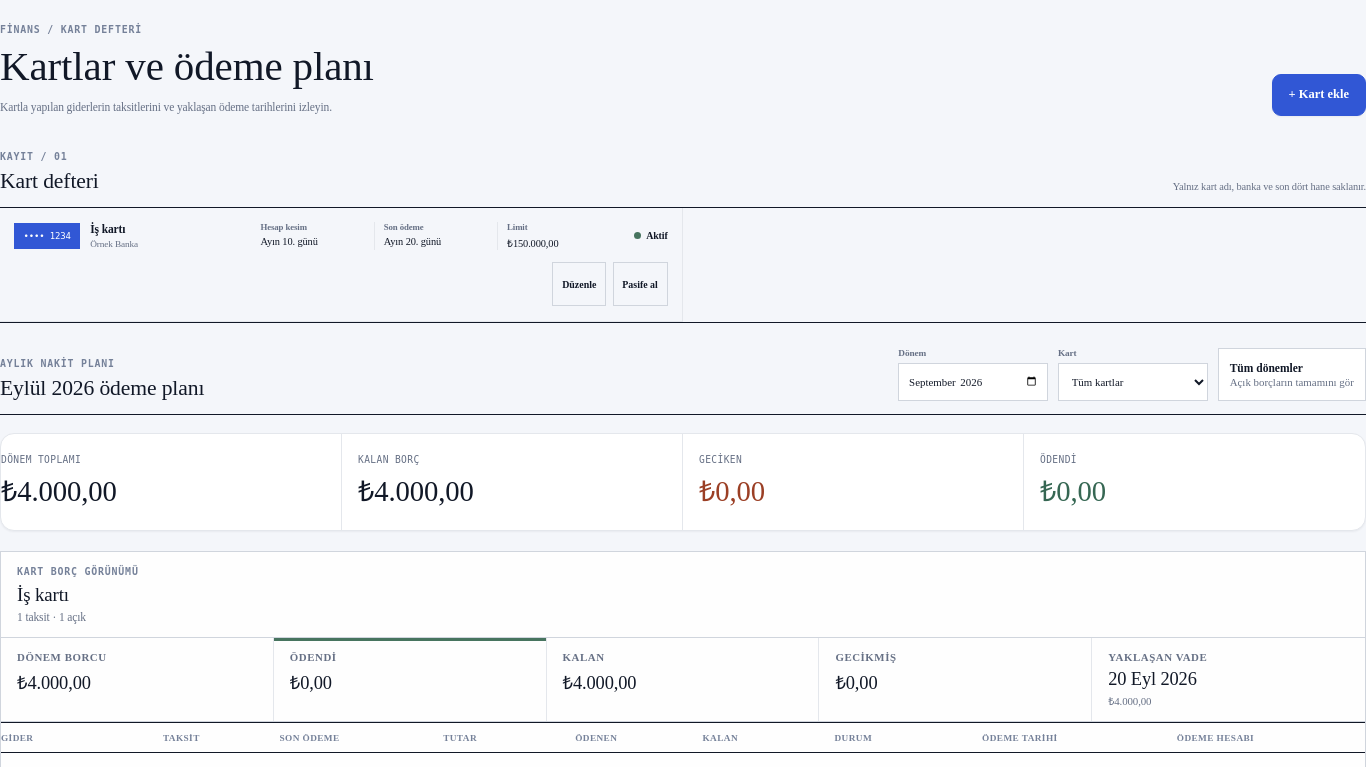
it: CardPlanWorkspace › clears stale installments and offers retry when a changed period cannot load
Replace the text in the field named "Ödeme planı dönemi" with "2027-01" at [973, 382], box top-left (898, 363), bottom-right (1048, 401)
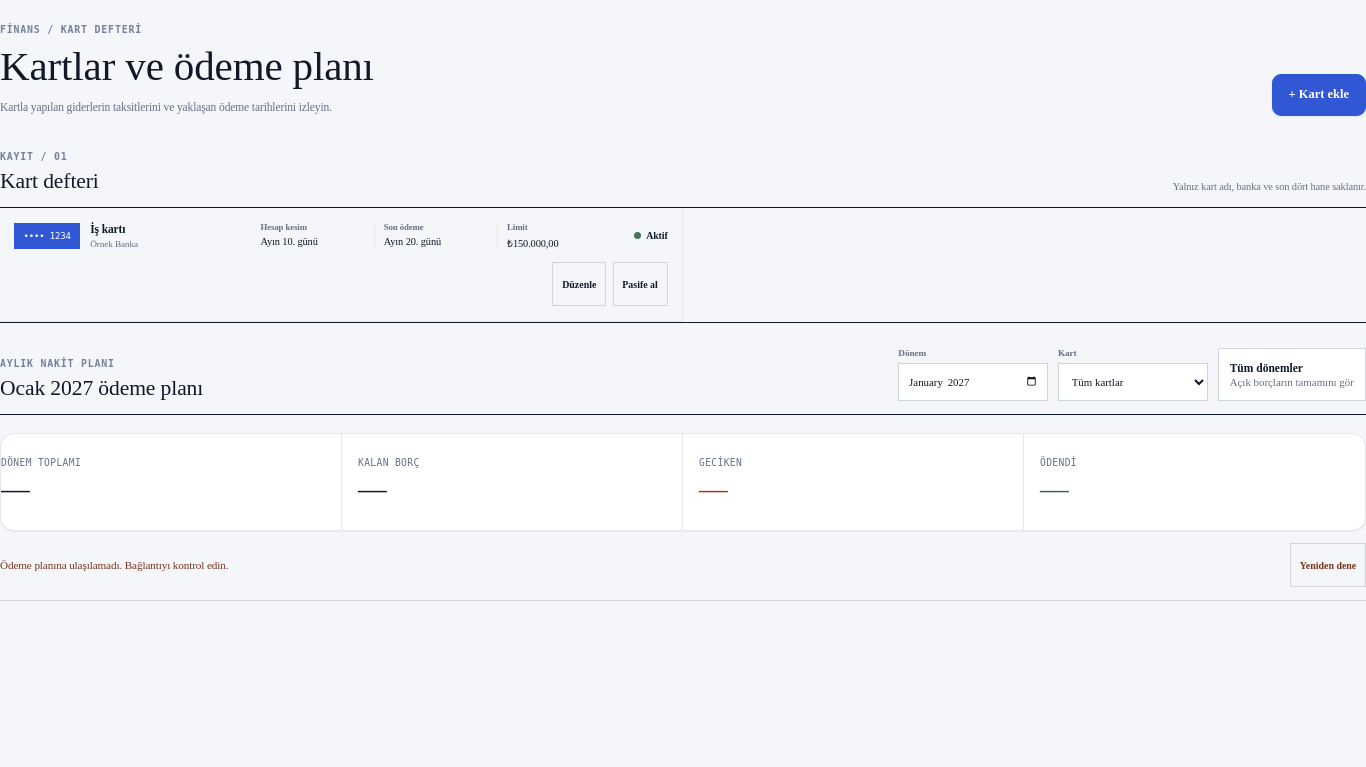
Now the button "Yeniden dene" is shown, box top-left (1290, 543), bottom-right (1365, 587)
